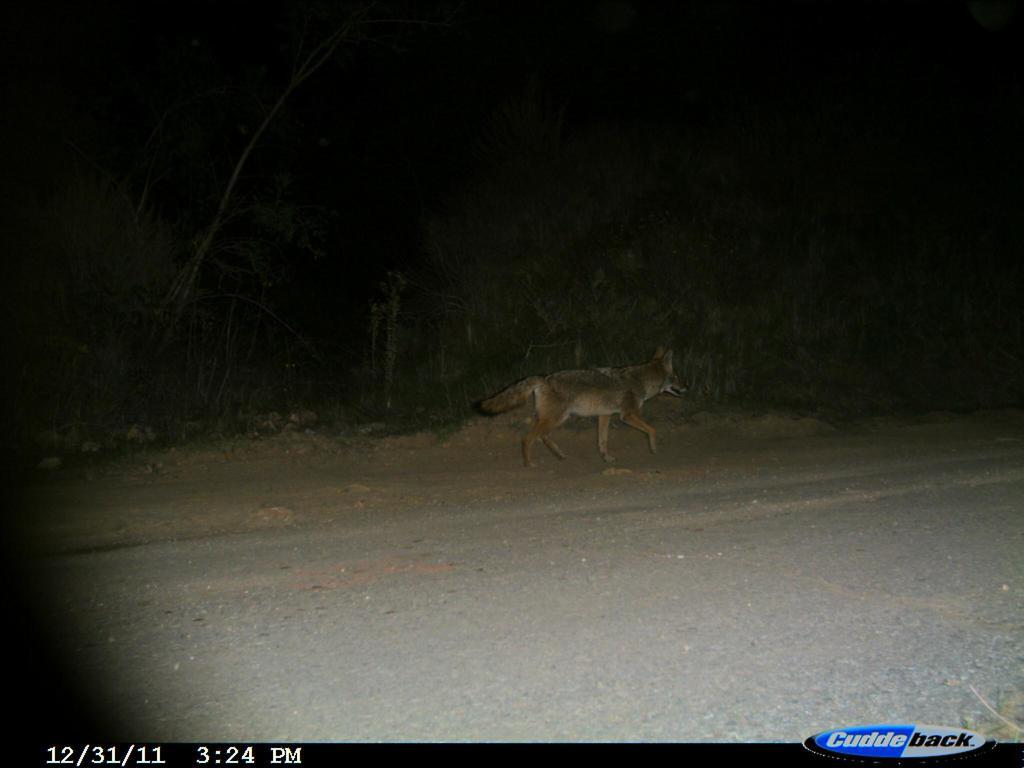coyote: (479, 340, 690, 469)
